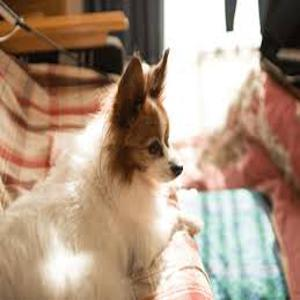yell: (0, 47, 183, 300)
